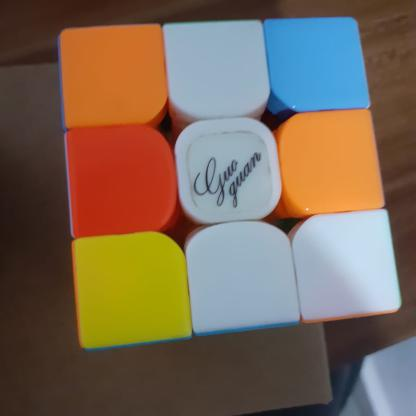cube: (50, 13, 406, 355)
